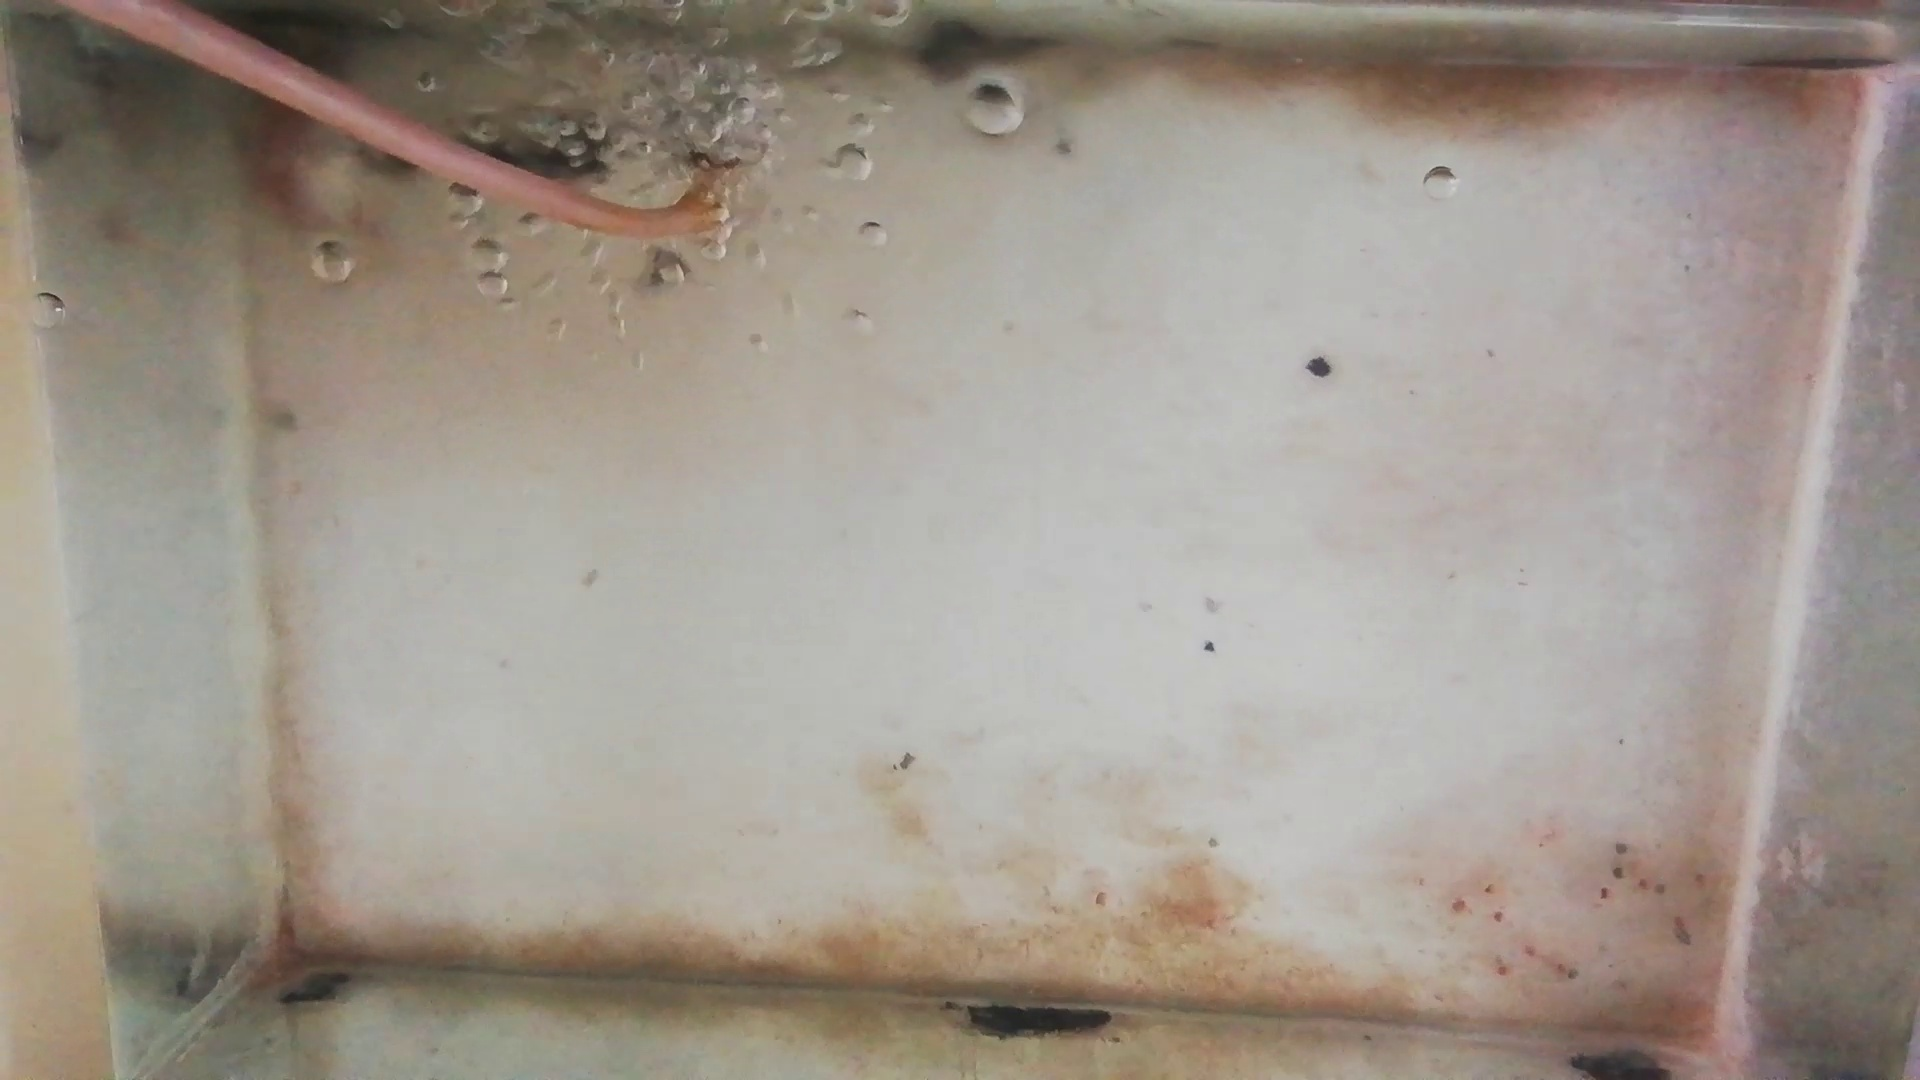fish: (256, 98, 334, 244), (458, 128, 632, 179)
